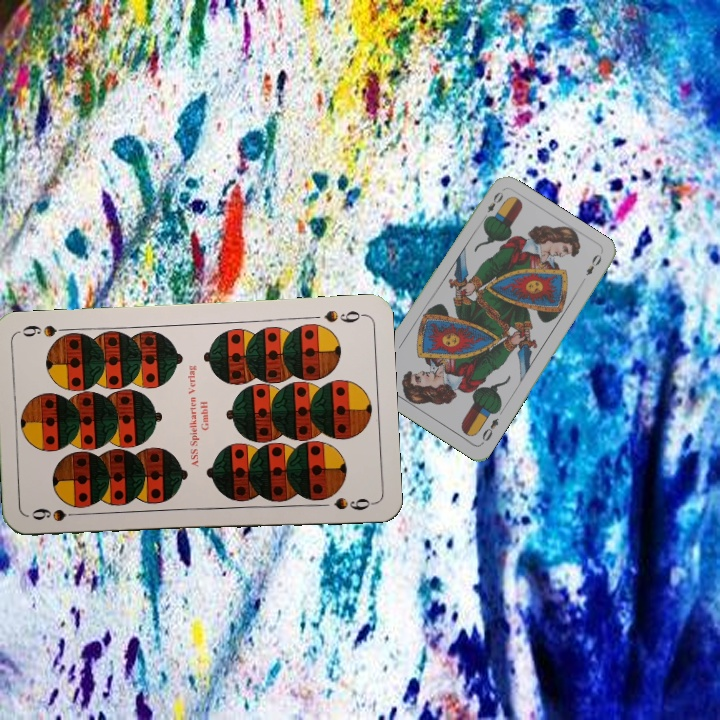EO: (478, 187, 506, 224), (477, 414, 501, 447)
S9: (27, 504, 86, 524), (320, 306, 367, 325)
